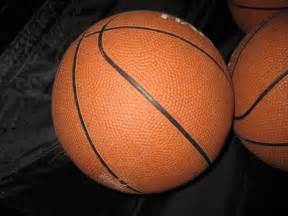basketball: (51, 9, 233, 197), (231, 8, 286, 179)
